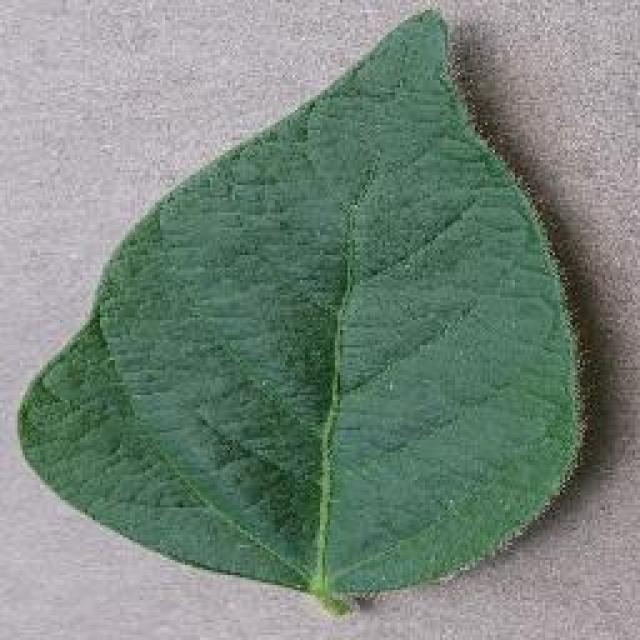Soy_healthy: (60, 60, 562, 562)
